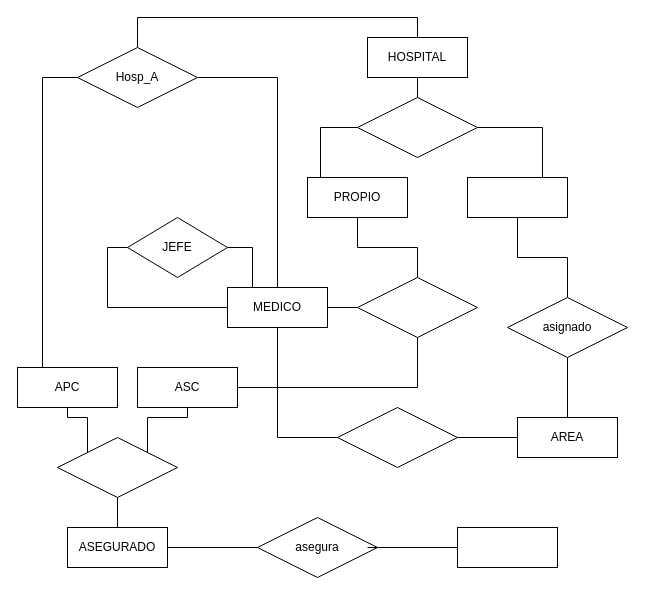
This 645x595 diagram has some shape labels left out. Each missing label, with the box of its shape:
adscrito: (336, 406, 458, 468)
CONCESIONADO: (466, 176, 568, 218)
es: (356, 96, 478, 158)
Hosp_B: (356, 276, 478, 338)
Pertenecen: (56, 436, 178, 498)
POLIZA: (456, 526, 558, 568)
